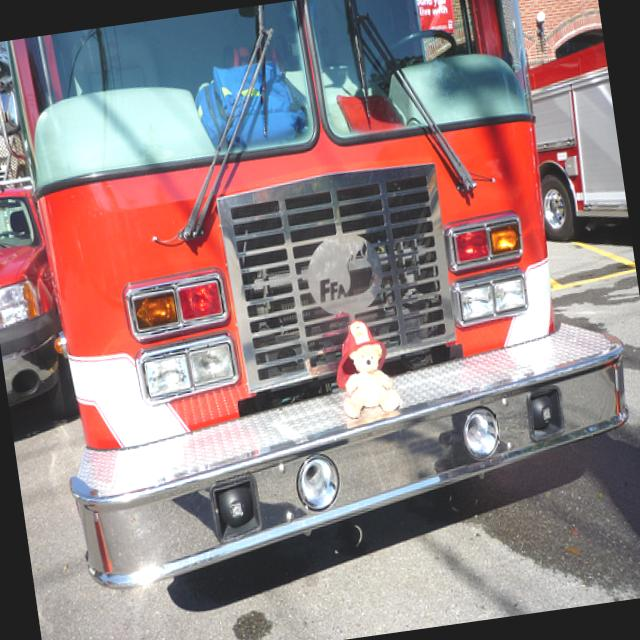Vehicle: (0, 0, 640, 607), (523, 36, 629, 230), (0, 177, 73, 421)
